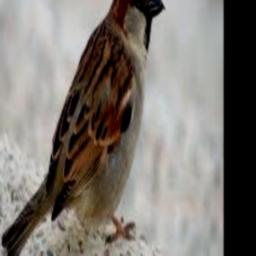Sparrow: (2, 0, 165, 256)
